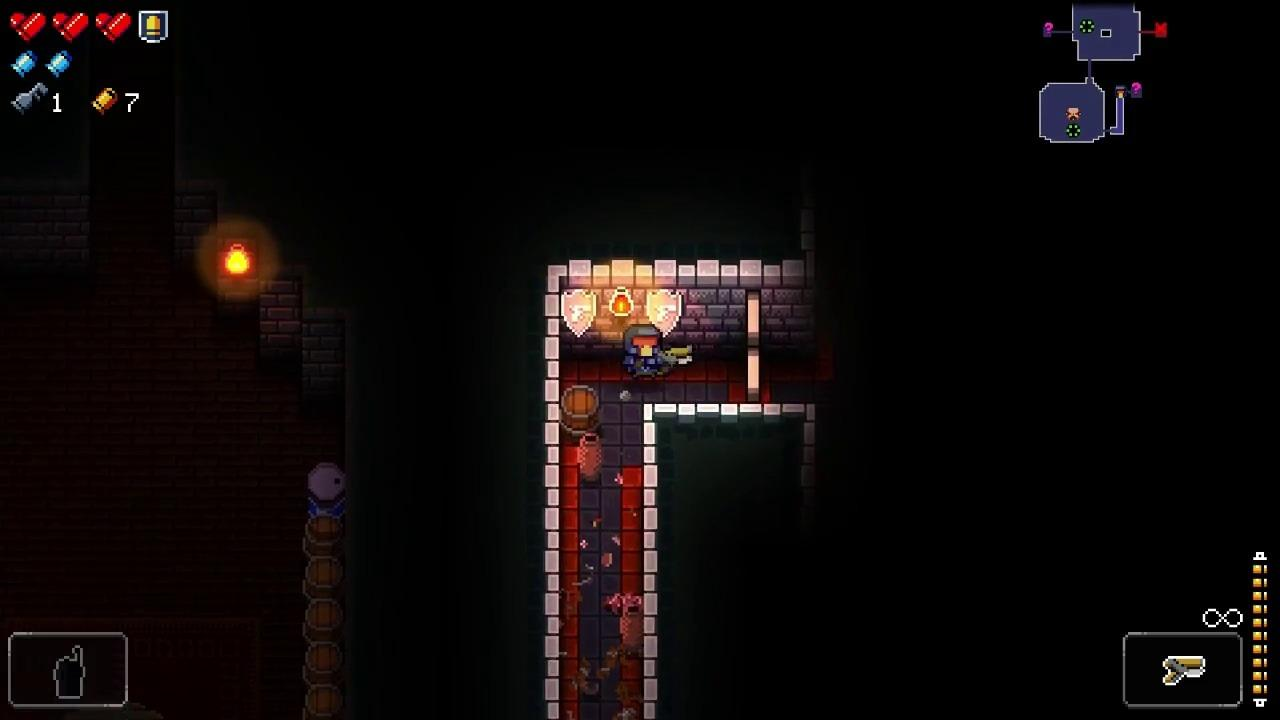player: (622, 324, 665, 381)
unlocked_door: (745, 288, 761, 405)
